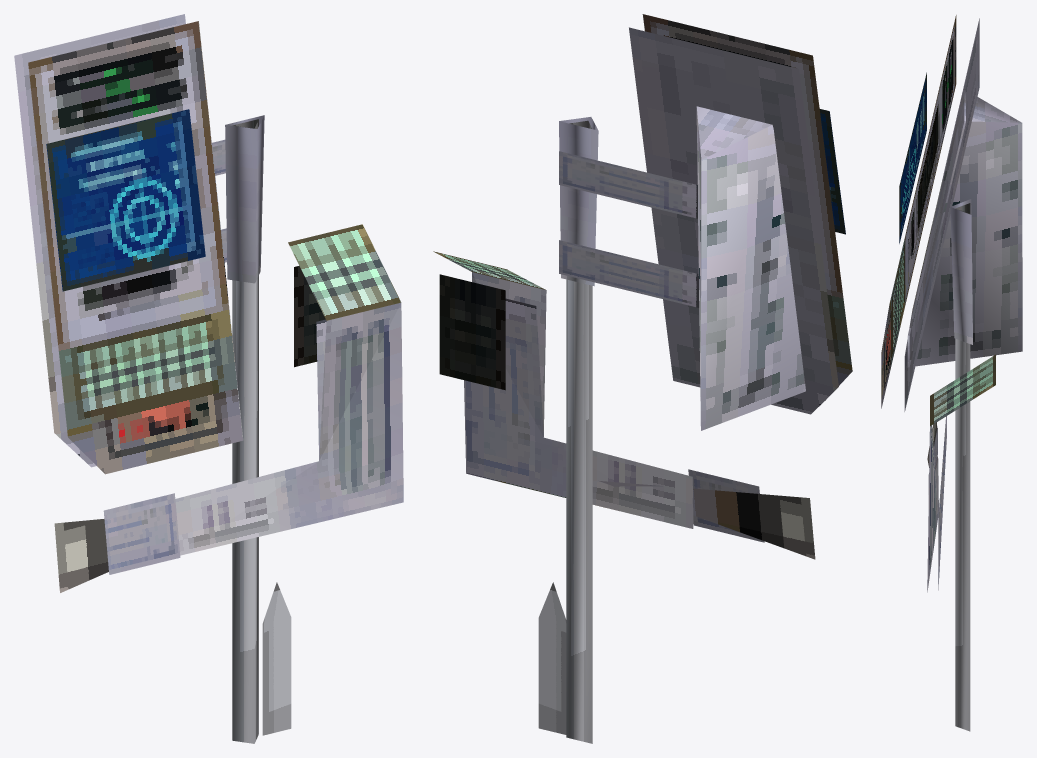
File: frn_imp_data_terminal_s1_l2.fbx
3 views of the same model, side by side, from view 1: azimuth 30°, elevation 25°; view 2: azimuth 150°, elevation 25°; view 3: azimuth 270°, elevation 25° (orthographic). The views are drawn at different scales.
Visible parts, largest first — view 1: mesh_node; view 2: mesh_node; view 3: mesh_node.
Part boxes in pixels (bbox=[...]): mesh_node: bbox=[14, 14, 403, 743]; mesh_node: bbox=[433, 14, 852, 743]; mesh_node: bbox=[881, 15, 1022, 731].
Bounding box in the file's own units: 0.763 × 1.5 × 0.3097.
